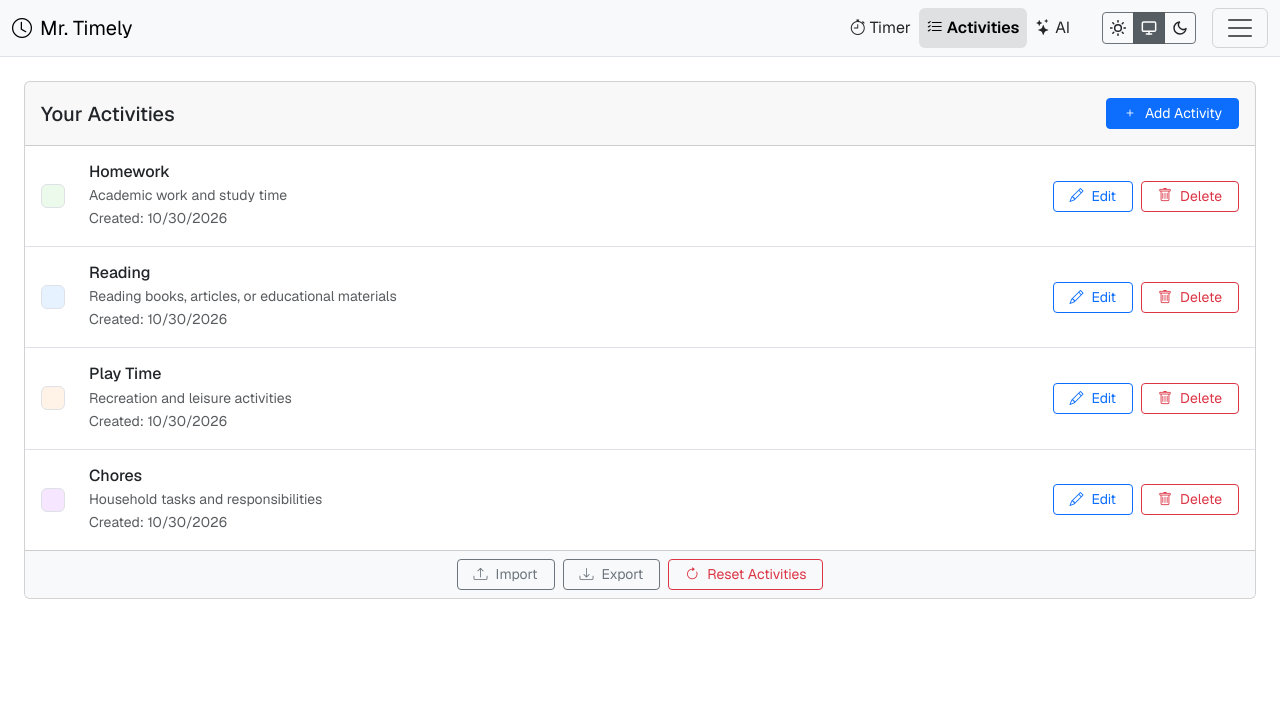
Scenario: Activity CRUD Operations › Import/Export Workflows › should open import workflow
Click the button "Add Activity": (1173, 114) [1106, 98, 1239, 129]
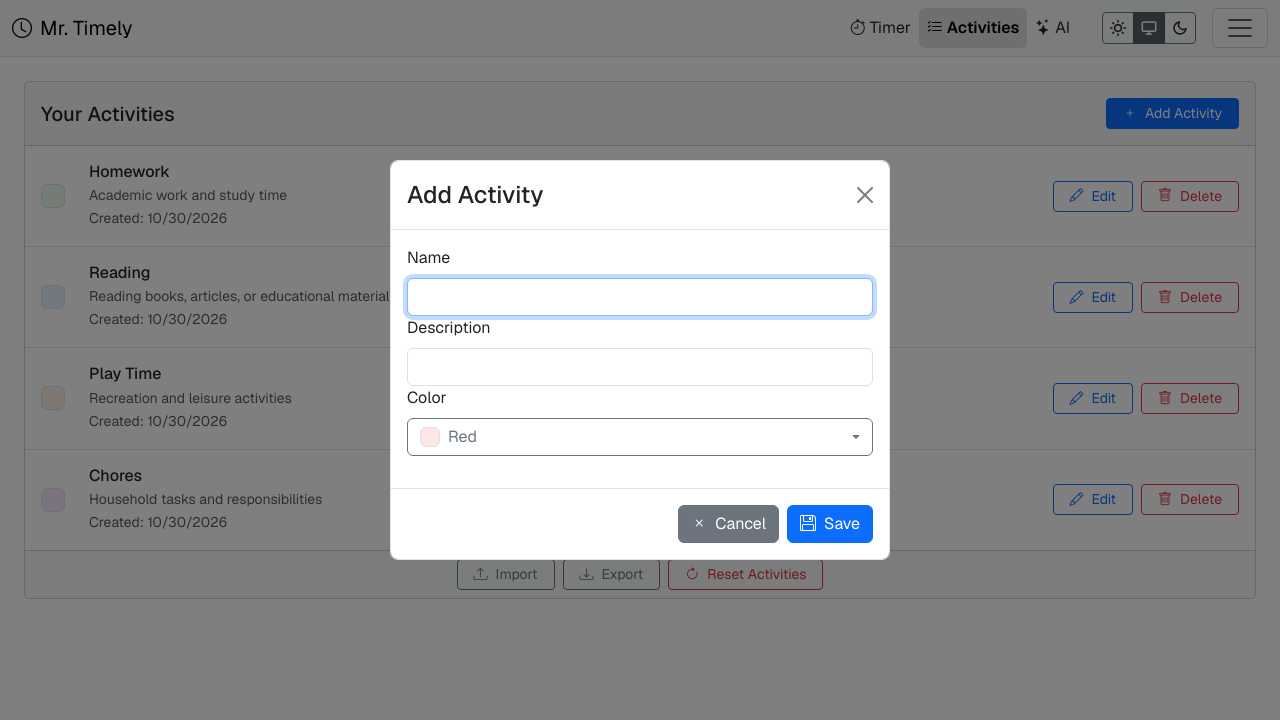
In the field labelled "Name": (640, 297) [407, 278, 873, 316], type "Export Test Activity"
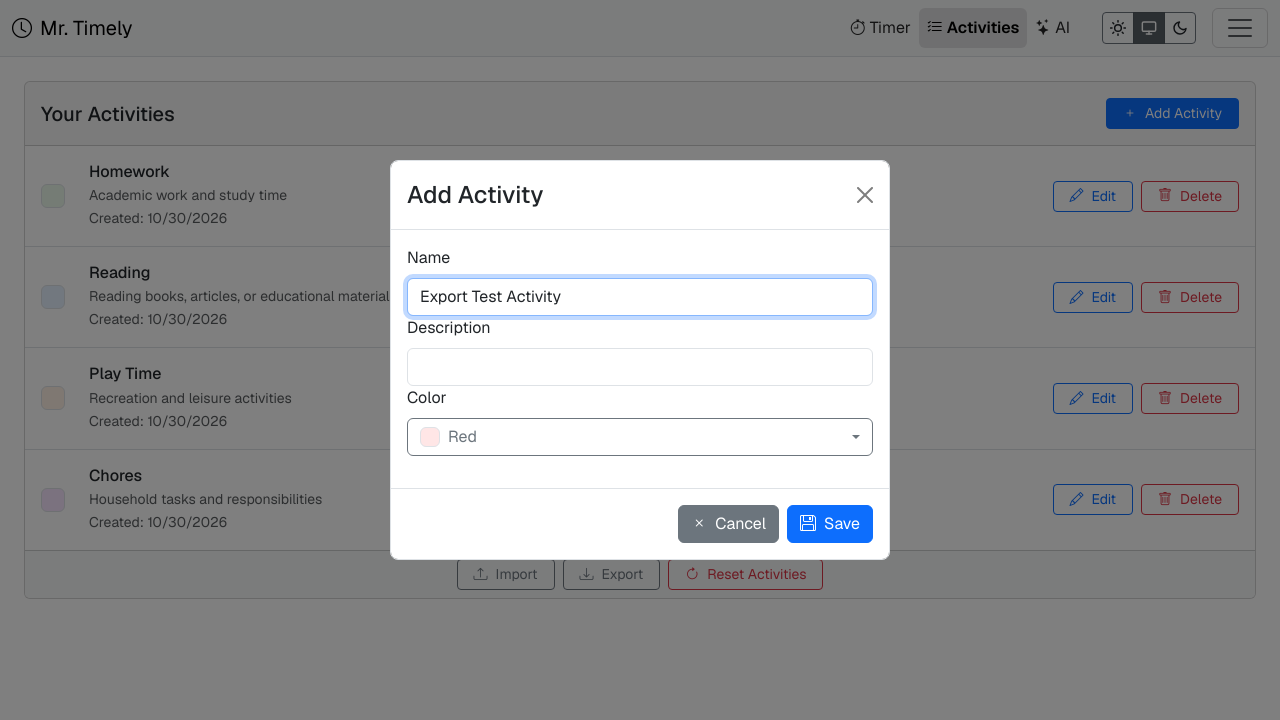
Click the button "Save": (830, 524) [787, 505, 873, 543]
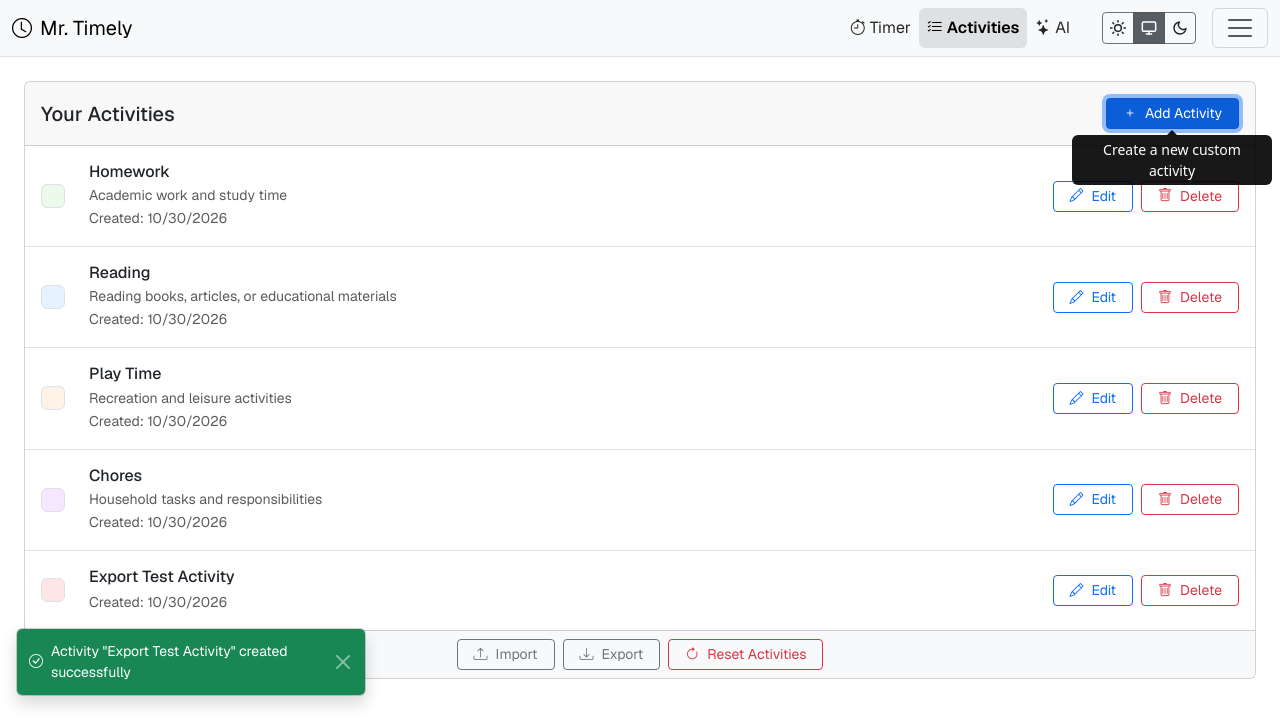
Expected: the dialog is gone
Expected: the message "Activity \"Export Test Activity\" created successfully" is shown, [16, 628, 366, 696]
Expected: the text with test id "toast-message" shows "created successfully", [51, 642, 288, 681]
Click the button "Import": (506, 655) [457, 639, 555, 670]
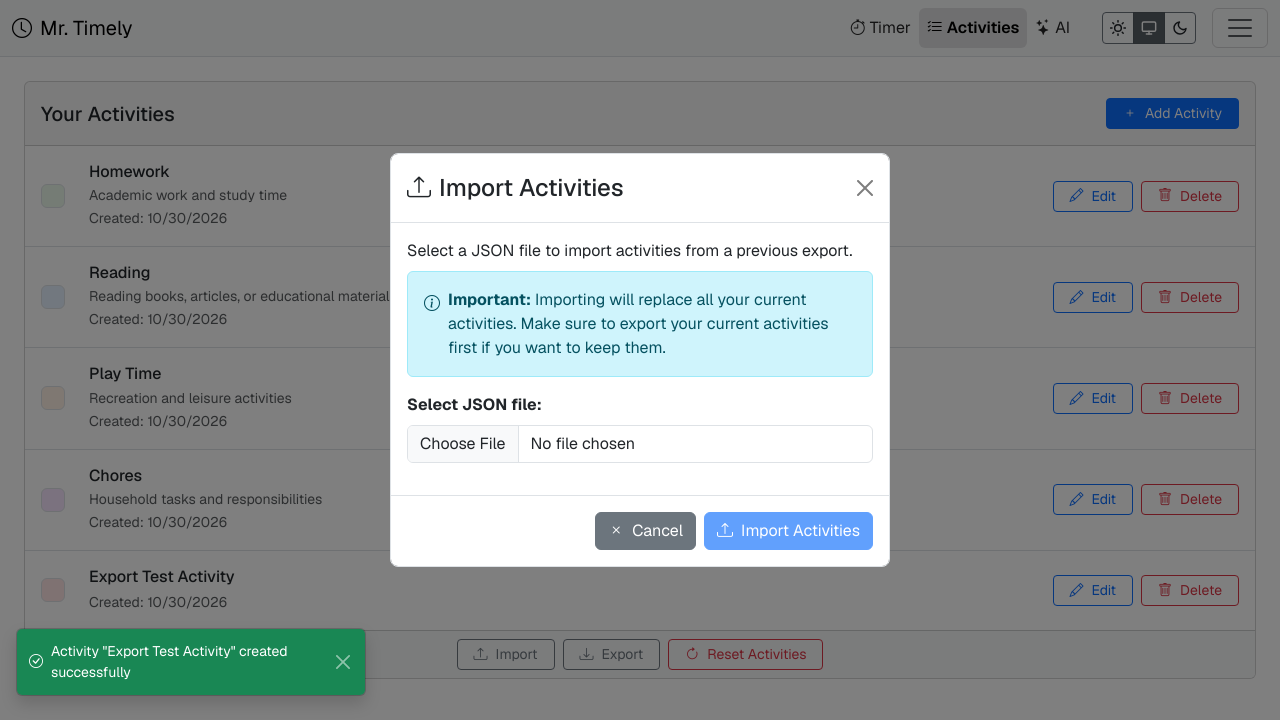
Expected: the dialog is shown, [390, 153, 890, 567]
Expected: the text "Import Activities" is shown, [407, 170, 624, 206]
Expected: the file field named "Import JSON File" is shown, [407, 425, 873, 463]
Click the button "Cancel": (646, 531) [595, 512, 696, 550]
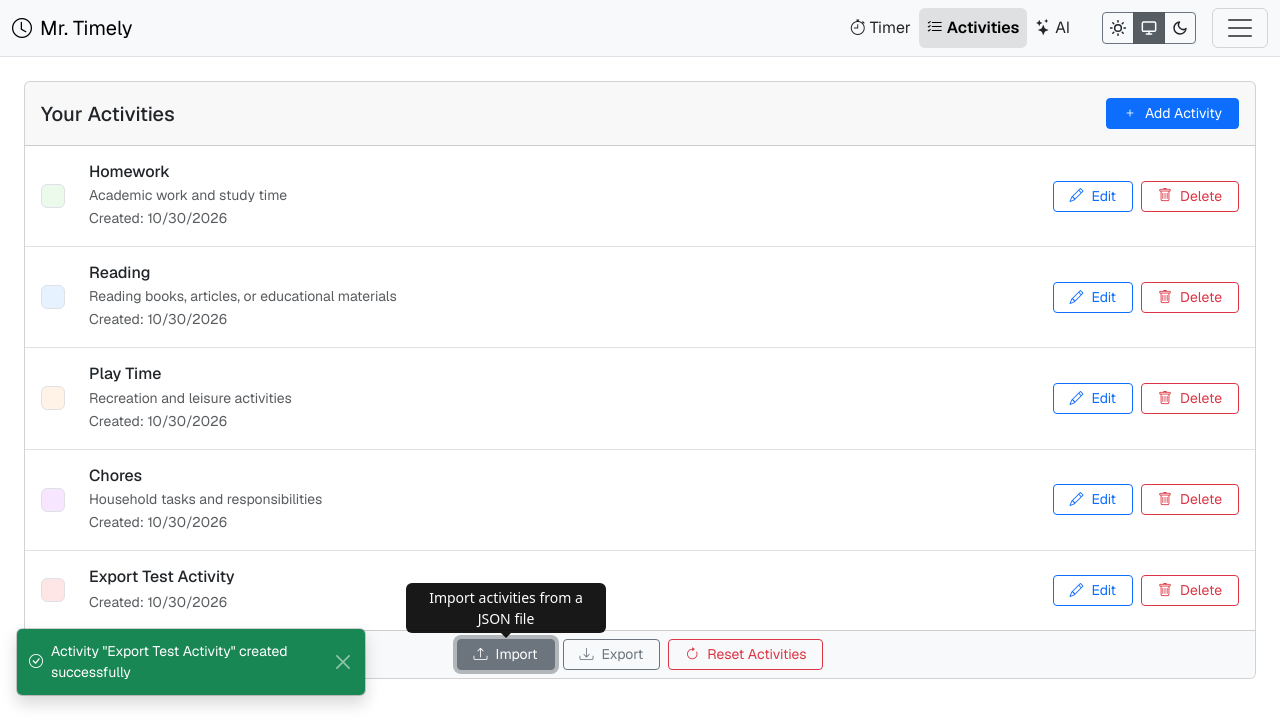
Expected: the dialog is gone
